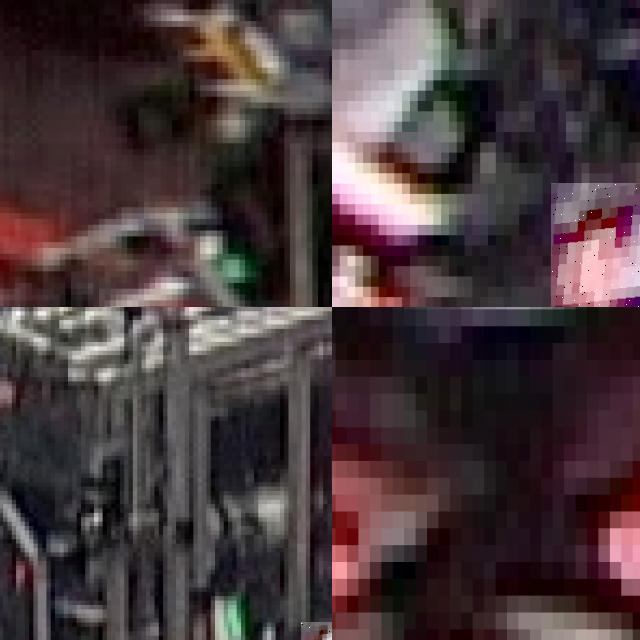R4: (550, 183, 640, 307), (332, 214, 402, 307)
